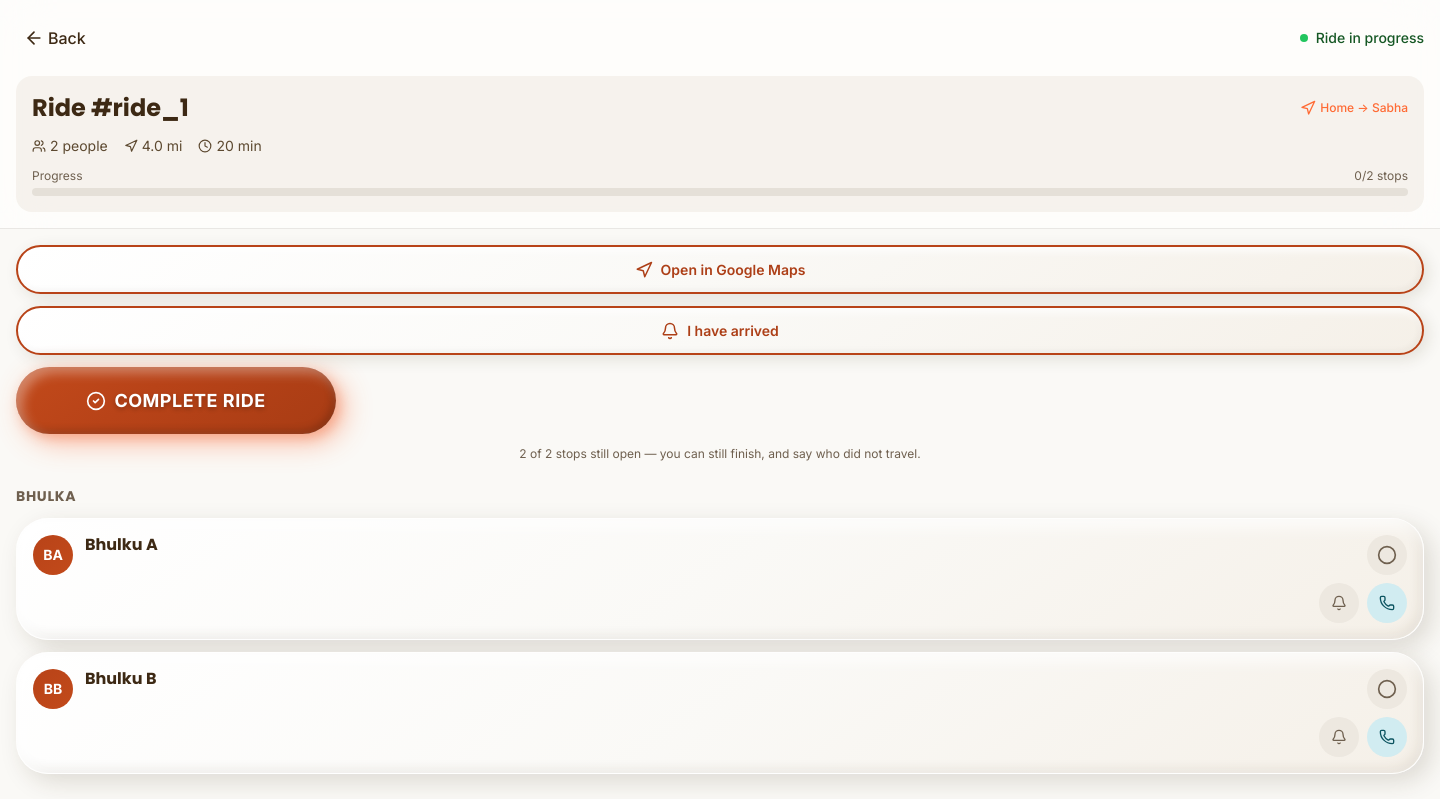
Test: waiting outside, and the two things a Sarthi can do about it › says plainly when the message reached no phone
Click the button named "Nudge Bhulku A" at (1339, 603), box [1319, 583, 1359, 623]
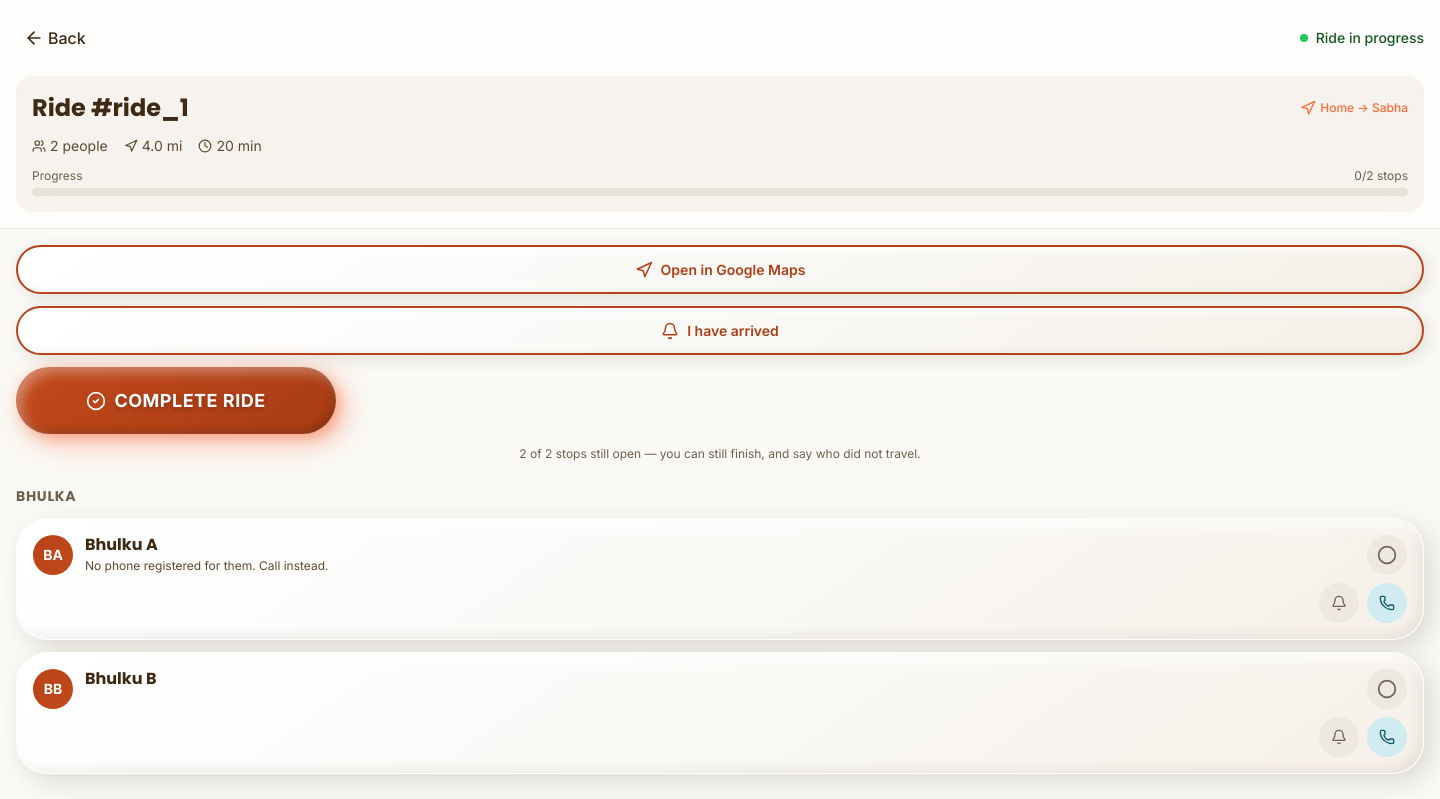
Now the text "No phone registered for them. Call instead." is shown, box [85, 558, 328, 573]
